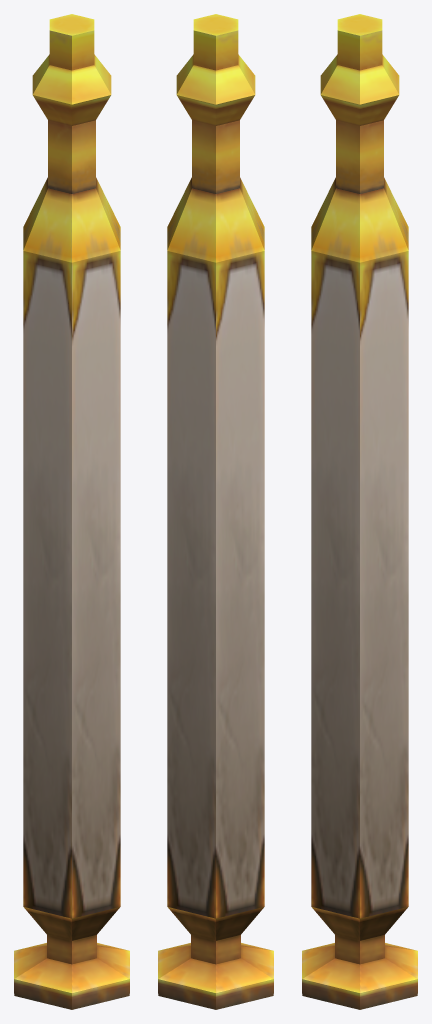
File: G_langan001.fbx
3 views of the same model, side by side, from view 1: azimuth 30°, elevation 25°; view 2: azimuth 150°, elevation 25°; view 3: azimuth 330°, elevation 25° (orthographic).
Visible parts, largest first — view 1: G_langan001; view 2: G_langan001; view 3: G_langan001.
Part boxes in pixels (x1,y1,x2,y2): G_langan001: (14, 14, 129, 1009); G_langan001: (158, 14, 273, 1009); G_langan001: (302, 14, 417, 1009).
Size of the model in its own units: 20.28 by 160 by 17.56.
